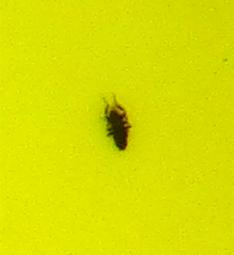Brachycera: (100, 100, 134, 155)
